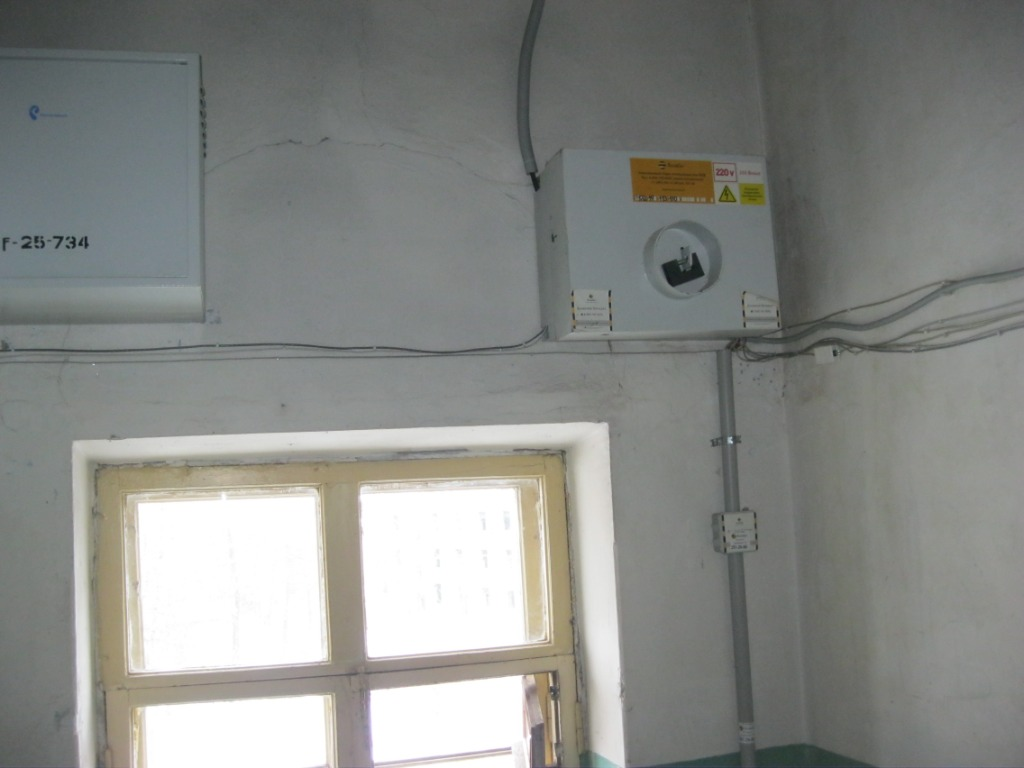shta-3: (531, 146, 785, 341)
